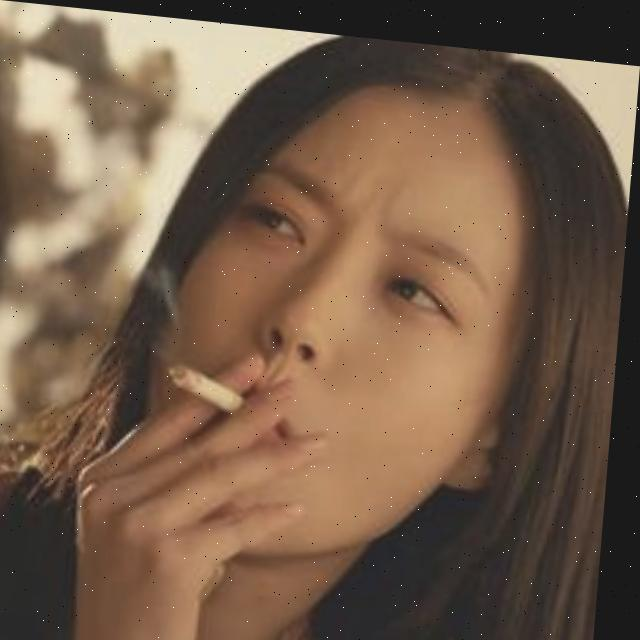cigarette: (176, 357, 252, 406)
